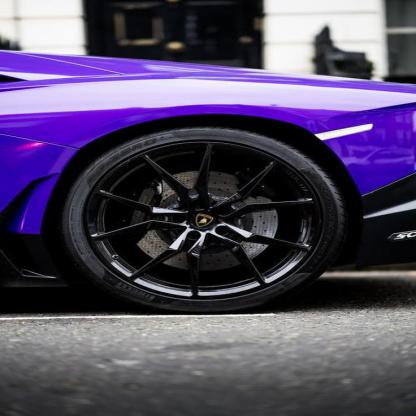Tire: (58, 126, 346, 312)
